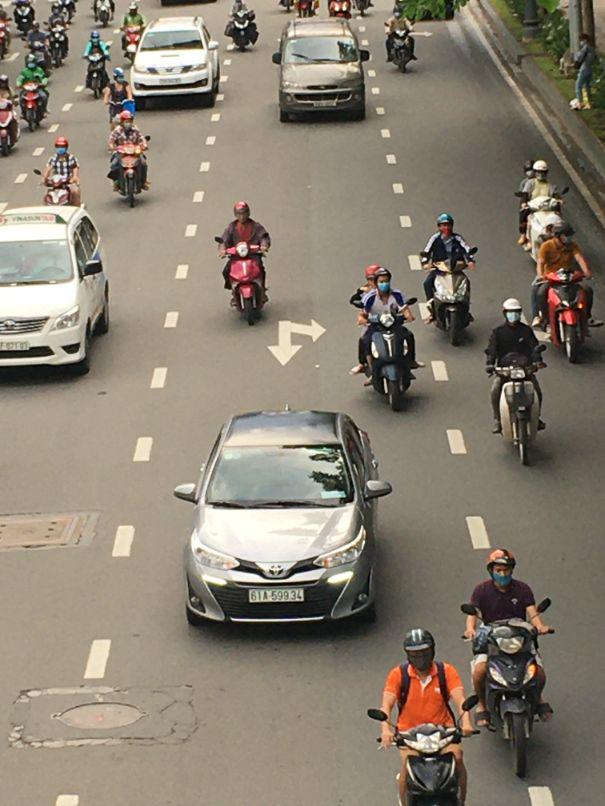car: (180, 405, 393, 630), (1, 208, 112, 376), (276, 27, 368, 125), (128, 17, 222, 111)
motorbike: (478, 615, 554, 779), (356, 281, 422, 413), (383, 707, 470, 806), (534, 228, 595, 356), (421, 235, 477, 343), (496, 359, 546, 464), (544, 277, 592, 363), (222, 250, 270, 325), (109, 143, 151, 208), (80, 40, 113, 99), (40, 167, 81, 209), (226, 4, 261, 51), (386, 25, 418, 74), (0, 93, 23, 158), (21, 83, 49, 132)
